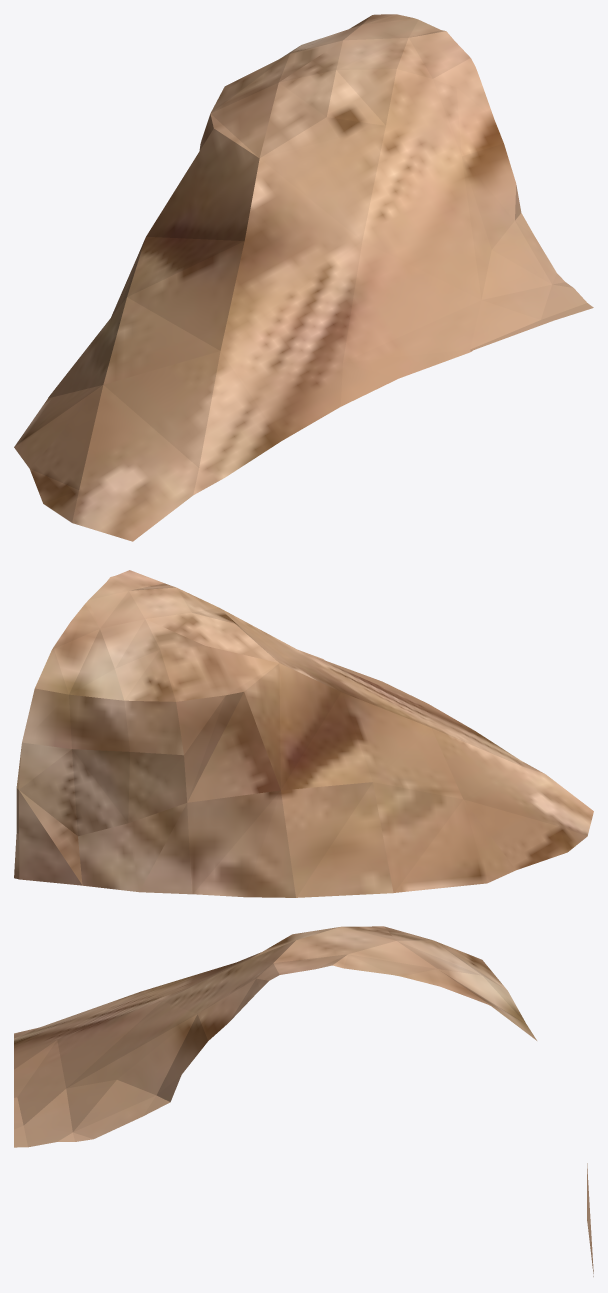
3 renders of one model, top to bottom at view 1: azimuth 30°, elevation 25°; view 2: azimuth 150°, elevation 25°; view 3: azimuth 270°, elevation 25°, orthographic. The views are drawn at different scales.
Bounding box in the file's own units: 0.1319 × 0.0748 × 0.1255.
1 material, 1 textured.
